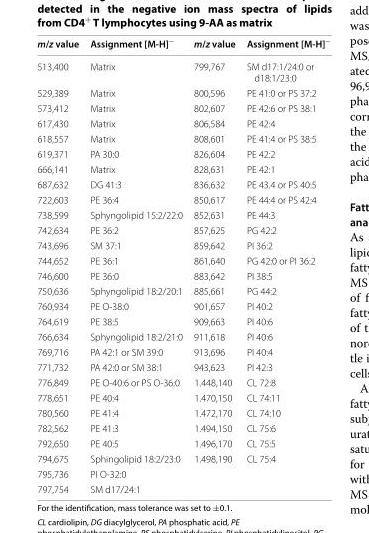table: (36, 36, 329, 494)
table column: (83, 36, 187, 494), (240, 36, 329, 494), (187, 36, 240, 494), (36, 36, 83, 494)
table column header: (36, 36, 329, 54)
table row: (36, 54, 329, 84), (36, 36, 329, 54), (36, 84, 329, 100), (36, 145, 329, 161), (36, 206, 329, 222), (36, 267, 329, 283), (36, 328, 329, 344), (36, 404, 329, 420), (36, 465, 329, 481), (36, 100, 329, 115), (36, 115, 329, 130), (36, 130, 329, 145), (36, 161, 329, 176), (36, 176, 329, 191), (36, 191, 329, 206), (36, 222, 329, 237), (36, 237, 329, 252), (36, 252, 329, 267), (36, 283, 329, 298), (36, 298, 329, 313), (36, 313, 329, 328), (36, 344, 329, 359), (36, 359, 329, 374), (36, 374, 329, 389), (36, 389, 329, 404), (36, 420, 329, 435), (36, 435, 329, 450), (36, 450, 329, 465), (36, 481, 329, 494)
